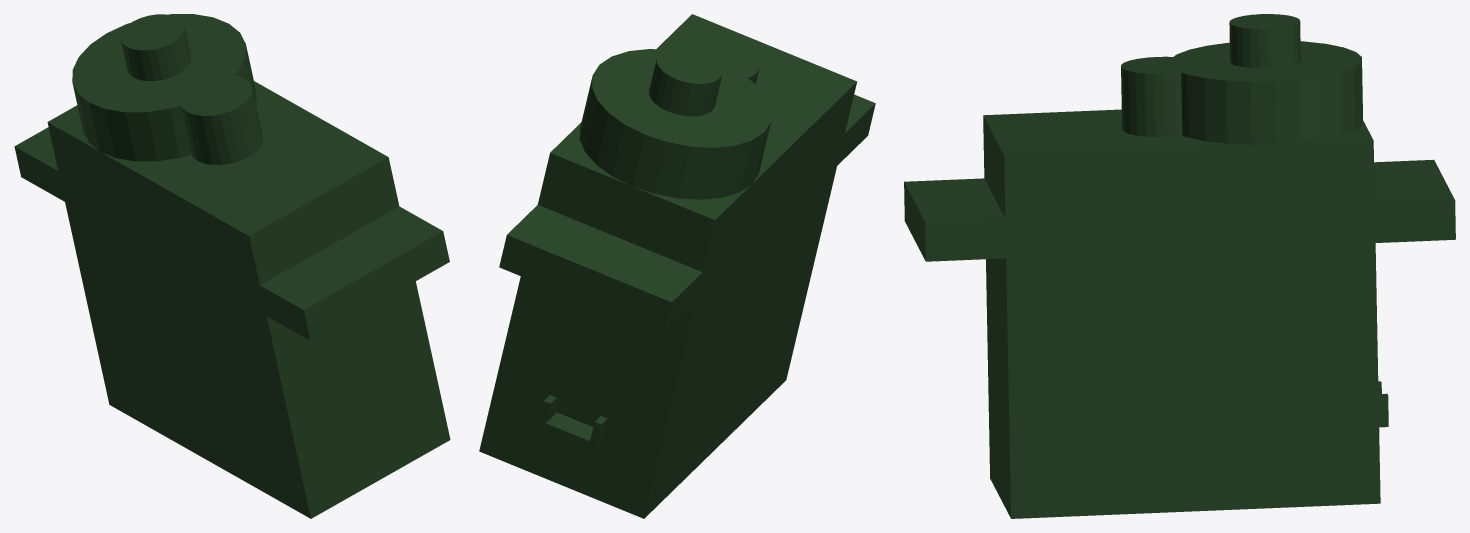
File: ant_rightJaw_vis_1.dae
The picture shows the model from 3 angles, left to right: view 1: azimuth 30°, elevation 25°; view 2: azimuth 150°, elevation 25°; view 3: azimuth 270°, elevation 25°; orthographic projection. The views are drawn at different scales.
Visible parts, largest first — view 1: node; view 2: node; view 3: node.
Part boxes in pixels (x1=…): node: x1=14, y1=14, x2=450, y2=518; node: x1=479, y1=14, x2=875, y2=518; node: x1=904, y1=14, x2=1455, y2=518.
Bounding box in the file's own units: 0.0292 × 0.0459 × 0.0512.
